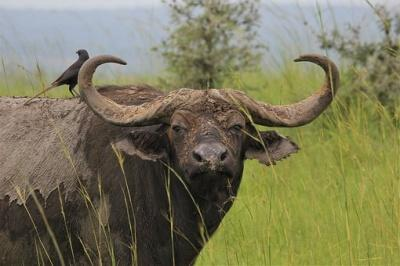buffalo: (0, 54, 338, 265)
